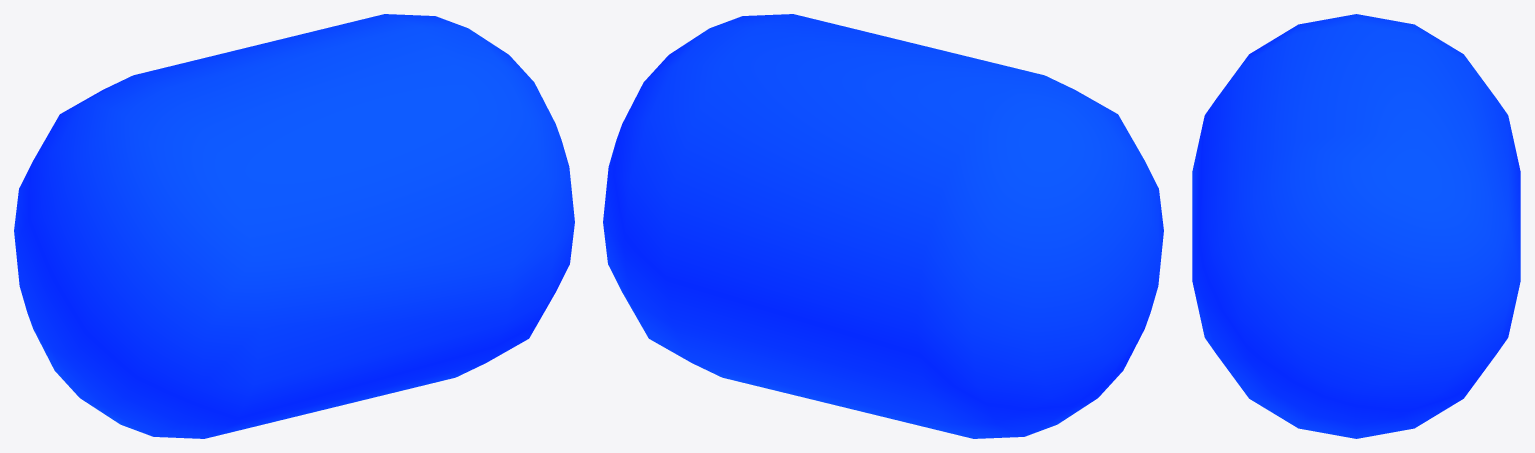
File: projectile.glb
The picture shows the model from 3 angles, left to right: view 1: azimuth 30°, elevation 25°; view 2: azimuth 150°, elevation 25°; view 3: azimuth 270°, elevation 25°; orthographic projection. The views are drawn at different scales.
Visible parts, largest first — view 1: grenade_color; view 2: grenade_color; view 3: grenade_color.
Boxes of the visible parts, bbox=[...] form: grenade_color: bbox=[14, 14, 574, 438]; grenade_color: bbox=[603, 14, 1163, 438]; grenade_color: bbox=[1192, 14, 1520, 438].
Bounding box in the file's own units: 12.33 × 8 × 8.
